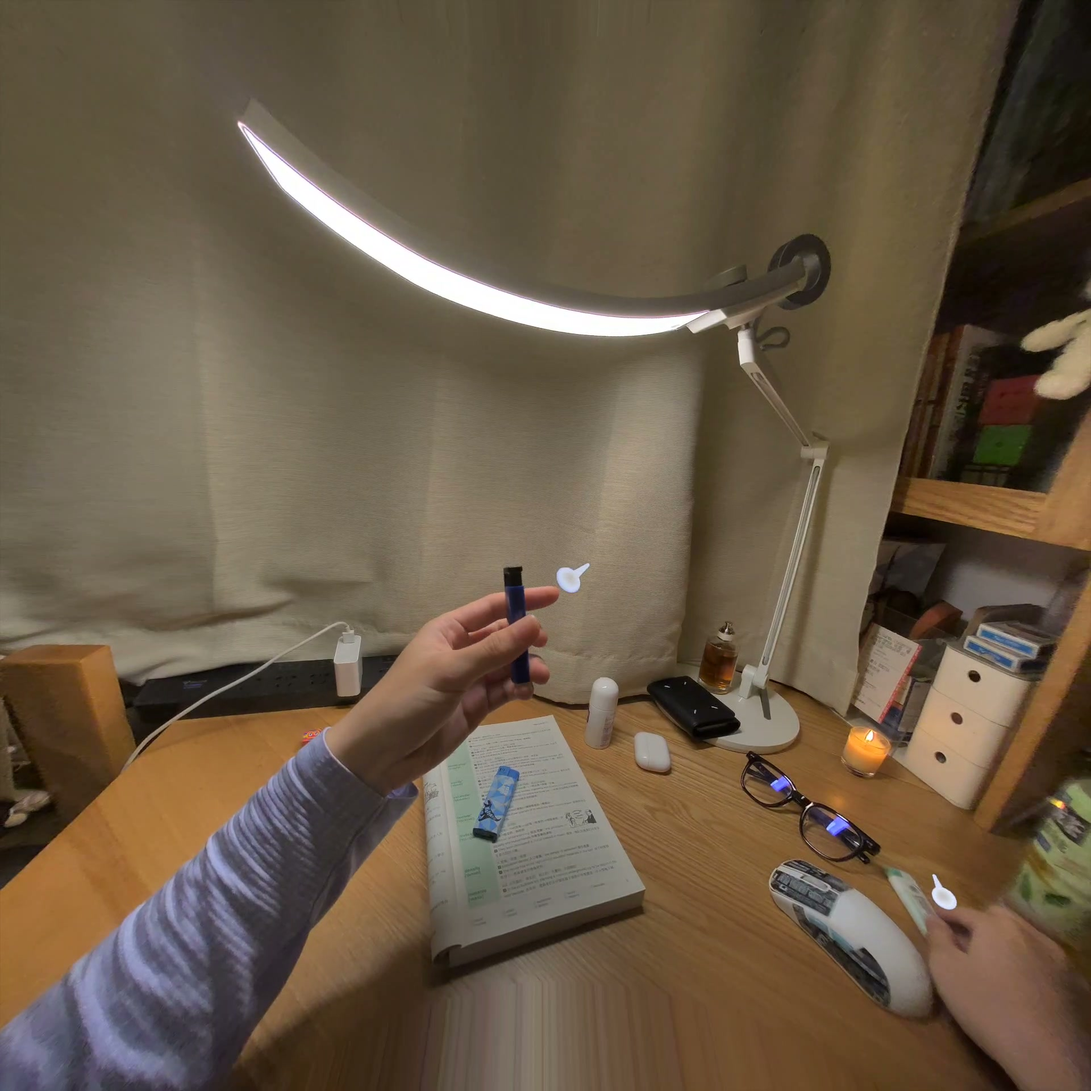lighter: (504, 567, 526, 624)
